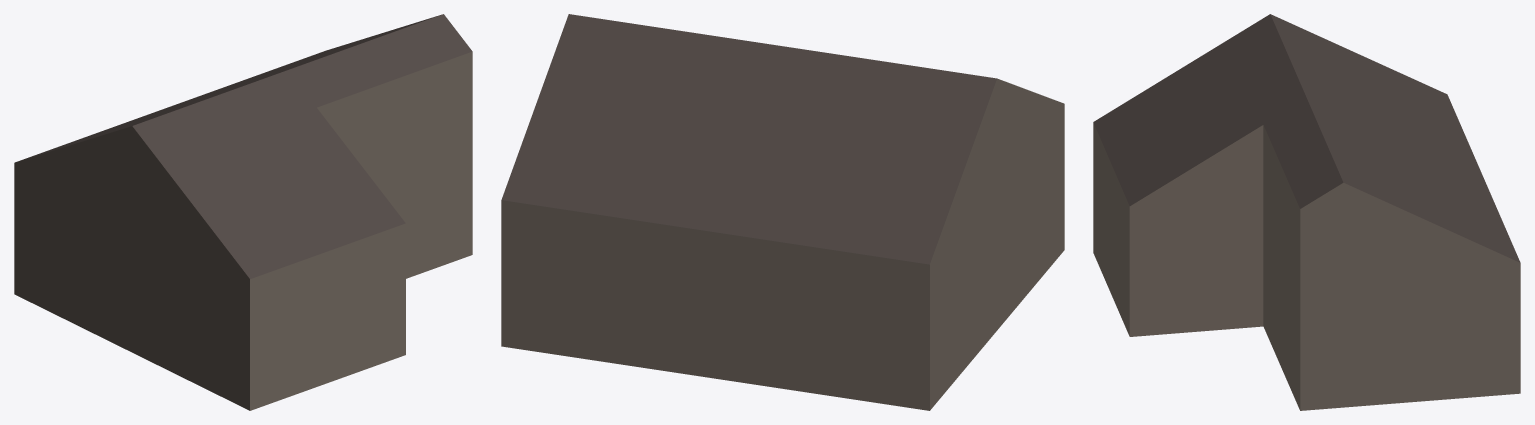
3 renders of one model, left to right at view 1: azimuth 30°, elevation 25°; view 2: azimuth 150°, elevation 25°; view 3: azimuth 270°, elevation 25°, orthographic. The views are drawn at different scales.
Visible parts, largest first — view 1: HP-w859488795; view 2: HP-w859488795; view 3: HP-w859488795.
Boxes of the visible parts, box(x1,y1,x2,y2) form: HP-w859488795: box(14, 14, 472, 410); HP-w859488795: box(501, 14, 1064, 410); HP-w859488795: box(1093, 14, 1520, 410).
Size of the model in its own units: 18.32 by 10.33 by 17.8.
